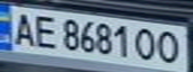1: (112, 22, 133, 58)
6: (78, 19, 96, 54)
8: (57, 16, 81, 52), (93, 20, 115, 56)
A: (6, 9, 39, 47)
E: (30, 12, 60, 50)
O: (154, 29, 184, 65), (133, 26, 160, 62)
